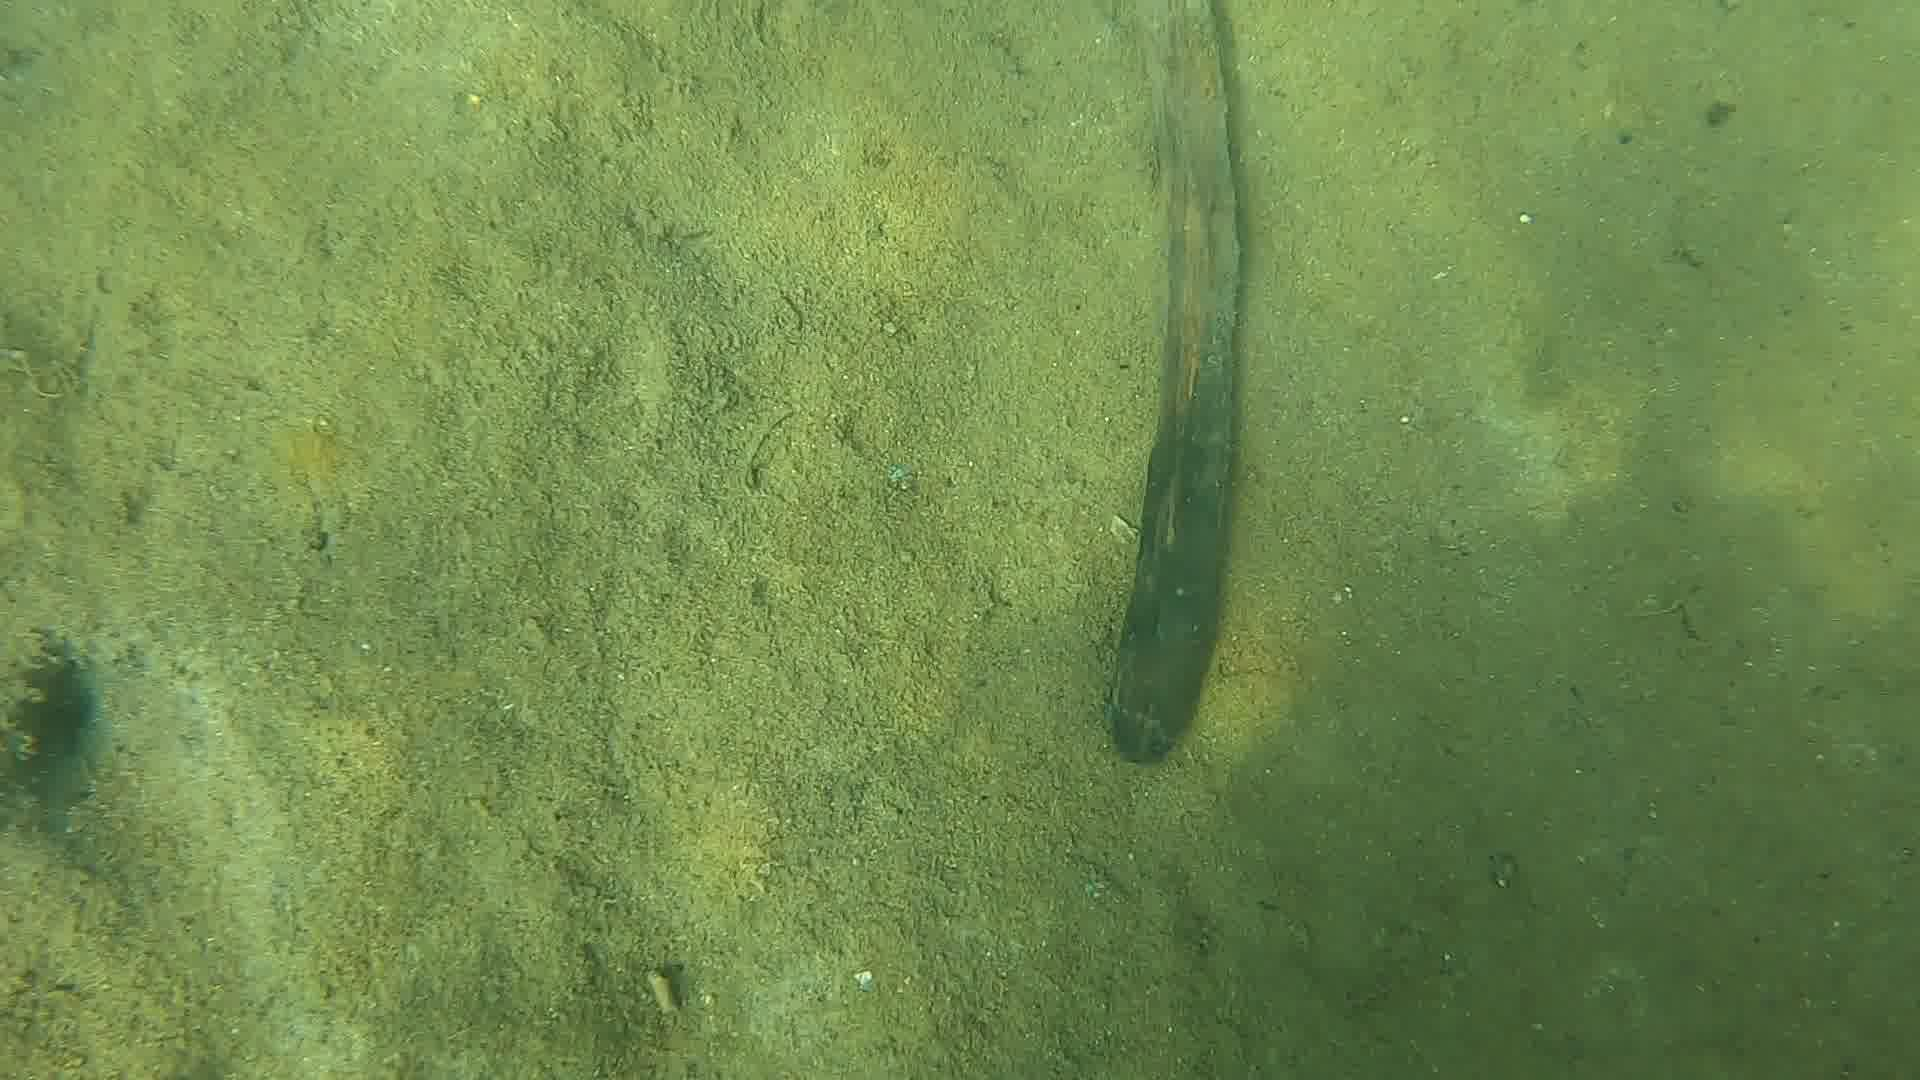wood: (1101, 0, 1240, 760)
